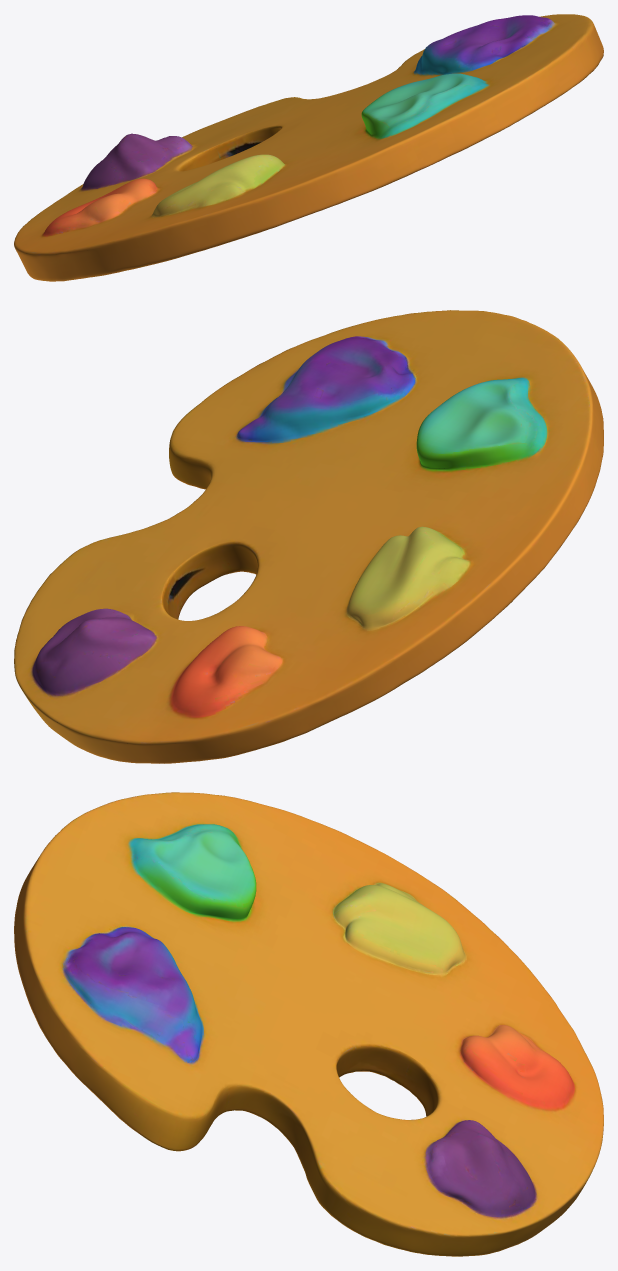
File: palette.glb
3 renders of one model, top to bottom at view 1: azimuth 90°, elevation 25°; view 2: azimuth 150°, elevation 25°; view 3: azimuth 270°, elevation 25°, orthographic.
Parts seen in each view (by area): view 1: tripo_node_75441344; view 2: tripo_node_75441344; view 3: tripo_node_75441344.
Part boxes in pixels (left/top/right/bottom): tripo_node_75441344: left=14, top=14, right=603, bottom=281; tripo_node_75441344: left=14, top=310, right=603, bottom=763; tripo_node_75441344: left=14, top=792, right=603, bottom=1256.
Size of the model in its own units: 0.9467 by 0.5329 by 0.9997.
Materials: 1 (1 with a texture image).
